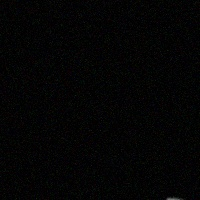chromosome: (165, 198, 196, 200)
